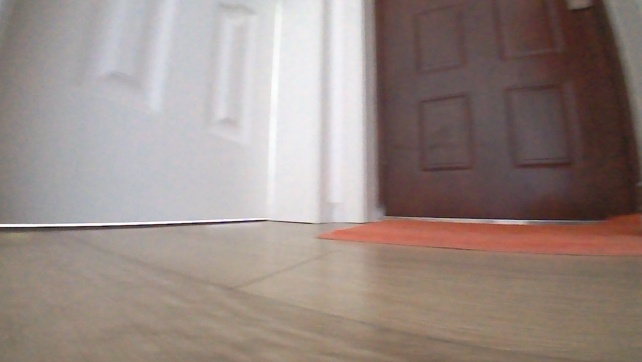blanket: (315, 212, 641, 259)
door_anno: (0, 0, 328, 238), (367, 0, 641, 225)
